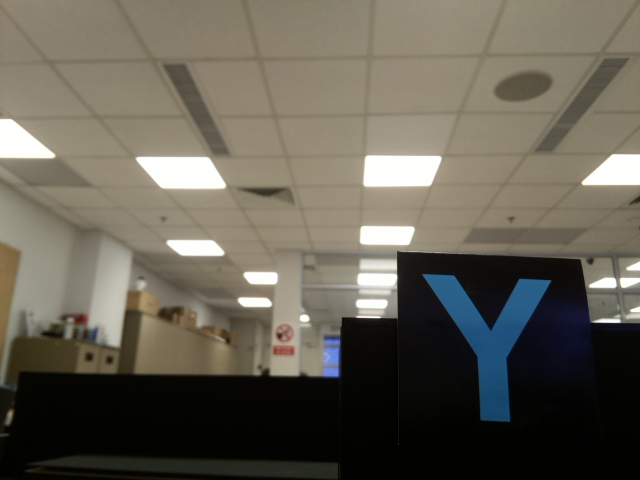y: (418, 269, 561, 436)
